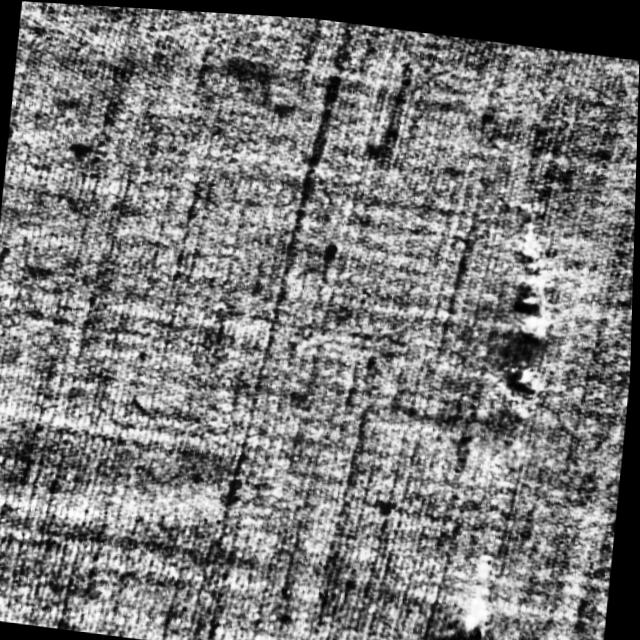Stitch: (490, 210, 569, 395), (420, 502, 515, 640)
